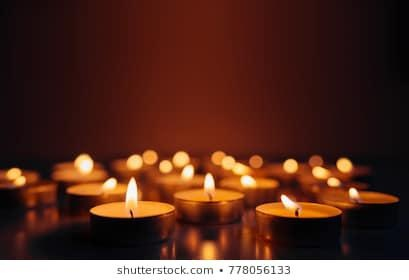fire: (123, 176, 142, 211), (201, 169, 215, 196)
